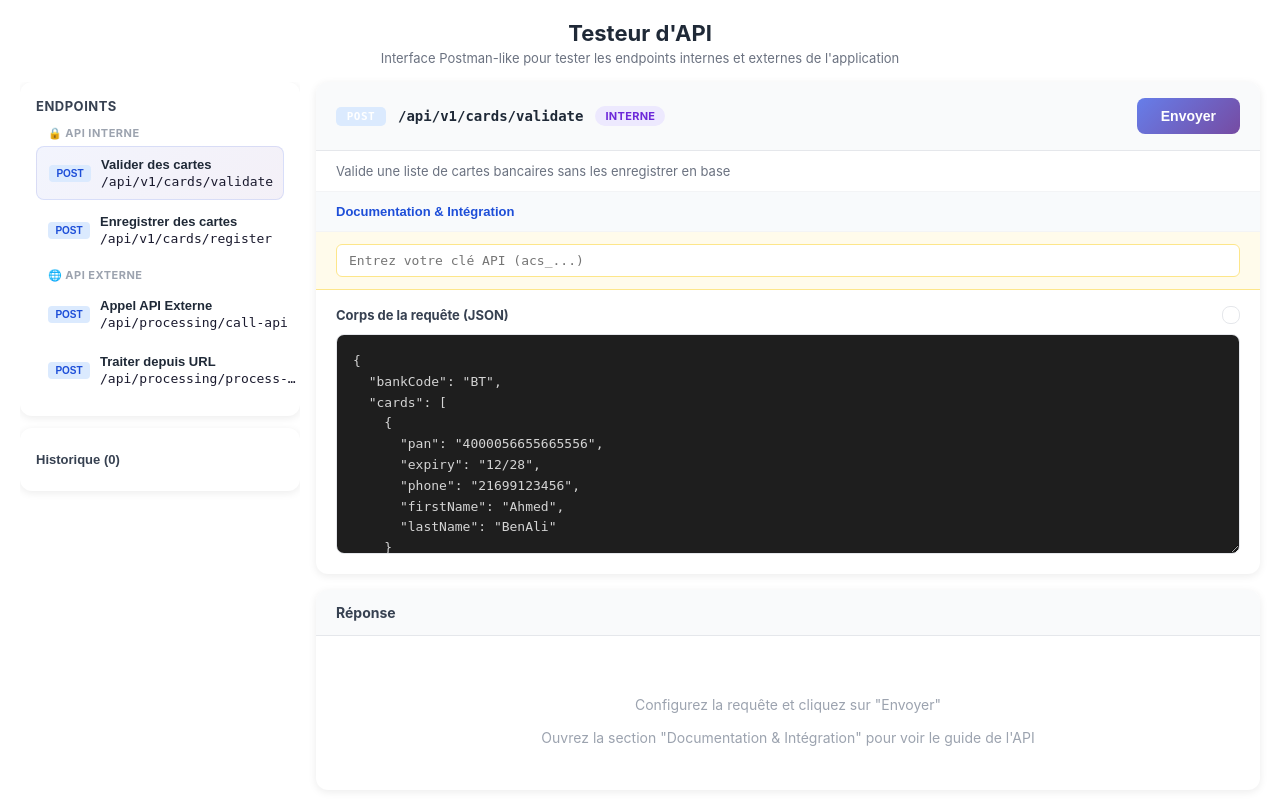
ApiTester › shows history section toggle
The width and height of the screenshot is (1280, 800).
Check: the text "Historique (0)" is shown, box [36,452,120,467]
Click the button "Historique (0)": point(160, 460) [36,444,284,475]
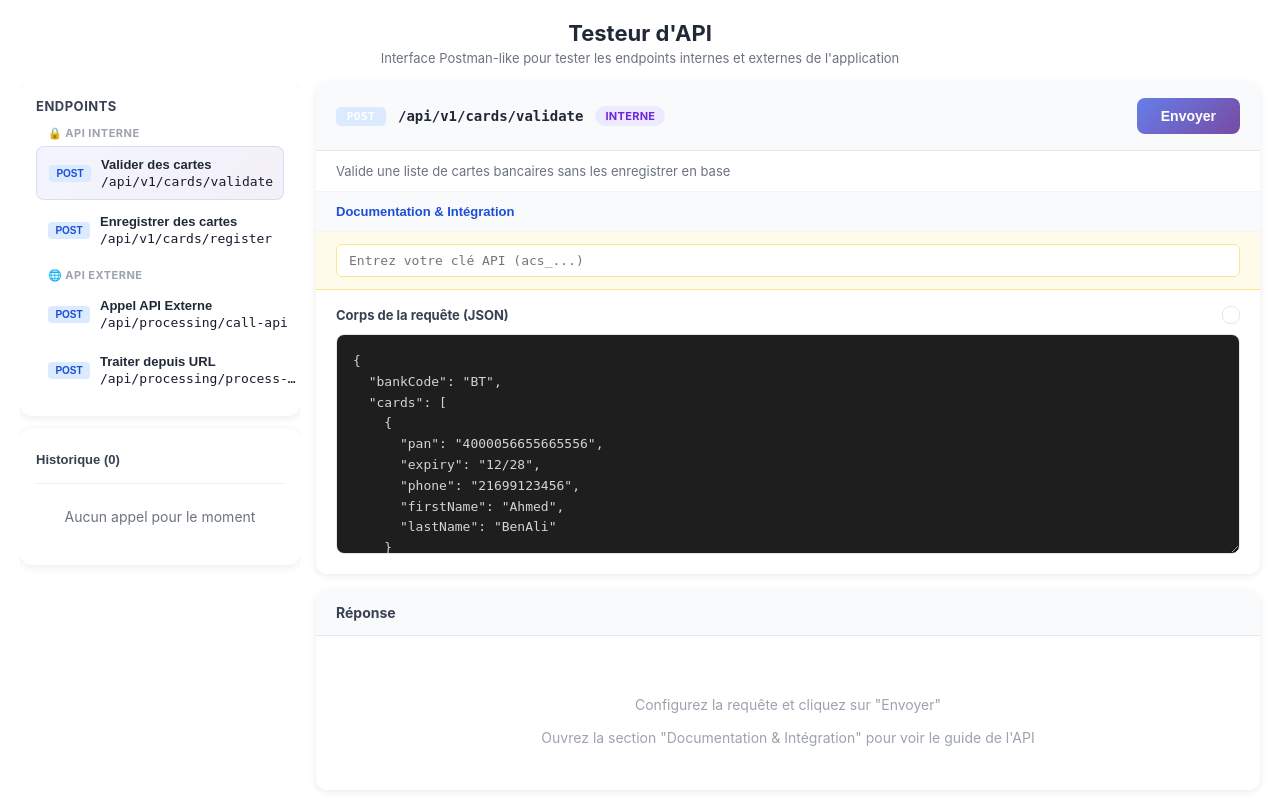
Check: the text "Aucun appel pour le moment" is shown, box [65,508,255,525]
